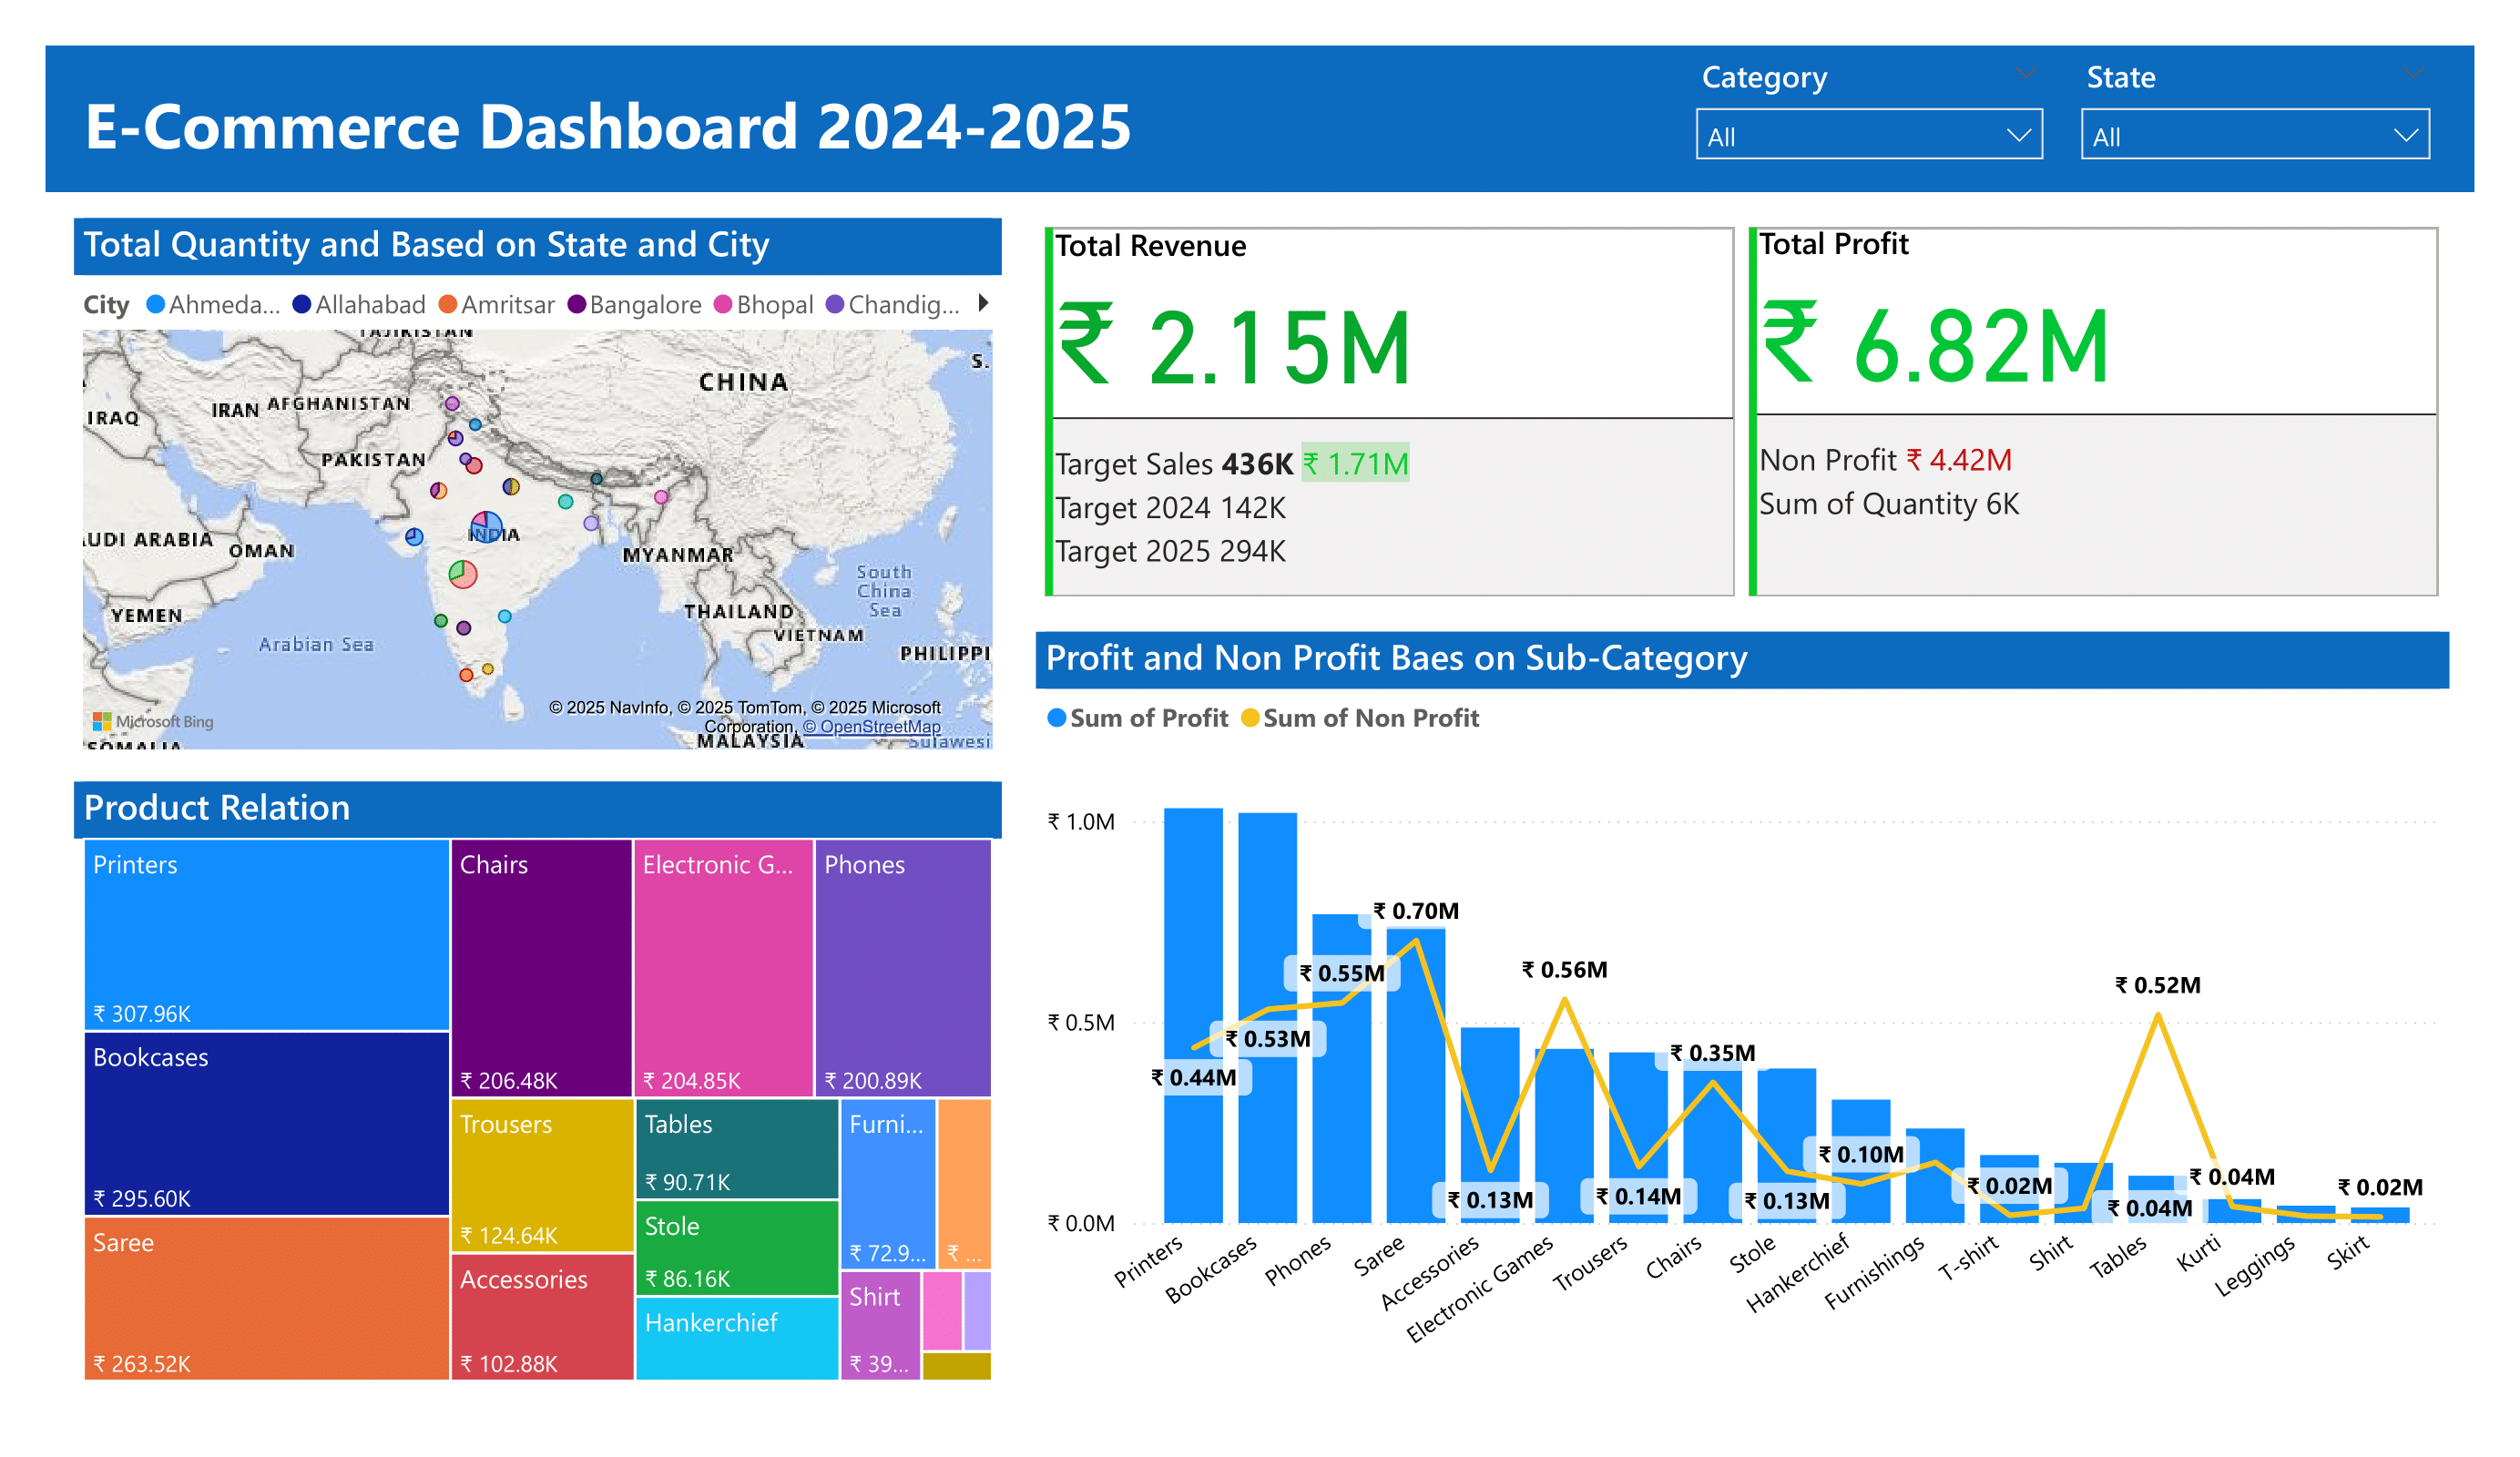

This screenshot's page, from the dashboard's own definition file:
{"tool":"powerbi","page":{"name":"Page 1","canvas":[1280,720],"ordinal":0},"visuals":[{"type":"shape","box":[0,0,1280,77.3],"z":0},{"type":"map","title":"Total Quantity and Based on State and City","fields":{"Category":["List of Orders.State"],"Series":["List of Orders.City"],"Size":["Sum(Order Details.Quantity)"]},"box":[15.1,90.7,488.8,285.6],"z":1000},{"type":"cardVisual","fields":{"Data":["Order Details.Revenue","Sum(Order Details.Profit)"]},"box":[522.4,90.7,744.1,204.9],"z":2000},{"type":"lineStackedColumnComboChart","title":"Profit and Non Profit Baes on  Sub-Category","fields":{"Category":["Order Details.Sub-Category"],"Y":["Sum(Order Details.Profit)"],"Y2":["Sum(Order Details.Non Profit)"]},"box":[522.4,309.1,744.1,399.8],"z":3000},{"type":"treemap","title":"Product Relation","fields":{"Group":["Order Details.Sub-Category"],"Values":["Order Details.Revenue"]},"box":[15.1,388,488.8,320.8],"z":4000},{"type":"slicer","fields":{"Values":["Order Details.Category"]},"box":[860.1,0,203.3,77.3],"z":5000},{"type":"textbox","title":"E-Commerce Dashboard 2024-2025","box":[15.1,18.5,577.8,38.6],"z":6000},{"type":"slicer","fields":{"Values":["List of Orders.State"]},"box":[1063.3,0,203.3,77.3],"z":7000}]}

Visuals, with their boxes in screenshot pixels (x1, y1, x2, y2):
shape: (53,39,2450,184)
"Total Quantity and Based on State and City" map: (81,209,996,744)
cardVisual - Order Details.Revenue x Sum(Order Details.Profit): (1031,209,2424,593)
"Profit and Non Profit Baes on  Sub-Category" lineStackedColumnComboChart: (1031,618,2424,1367)
"Product Relation" treemap: (81,766,996,1367)
slicer - Order Details.Category: (1663,39,2044,184)
"E-Commerce Dashboard 2024-2025" textbox: (81,74,1163,147)
slicer - List of Orders.State: (2044,39,2424,184)
